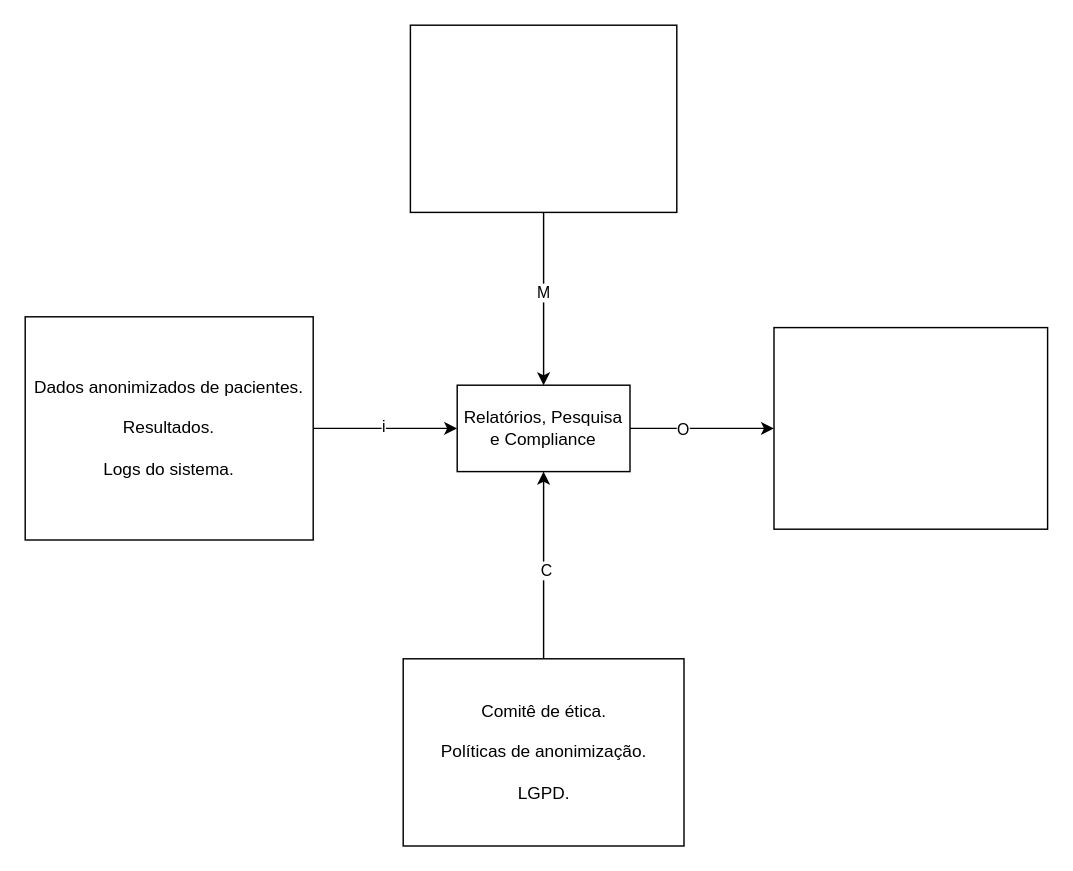
Some shapes in this 1073 by 871 pixel diagram are drawn without their labels. The box of each missing label's shape, as (x1, y1, x2, y2) in pixels:
BI. Data Warehouse. Equipe de compliance. Comitê de Ética.: (409, 24, 677, 212)
Dashboards. Relatórios acadêmicos. Dados para pesquisa (anonimizados).: (773, 326, 1048, 529)
